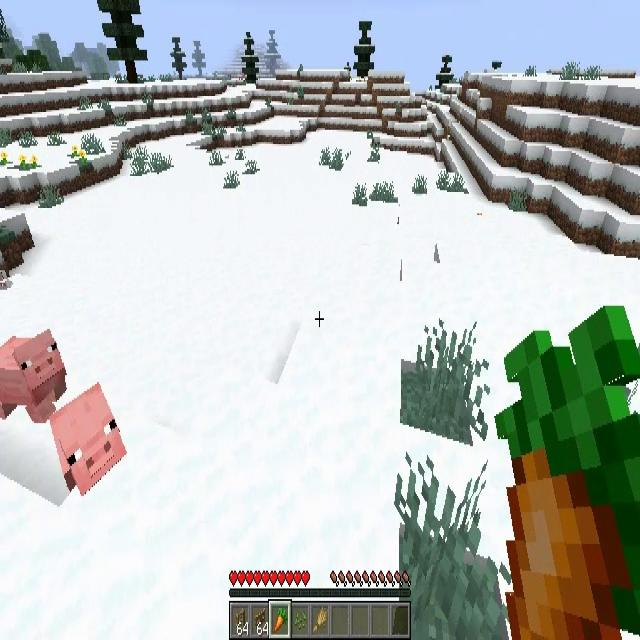pig: (51, 384, 128, 493), (0, 331, 67, 423)
